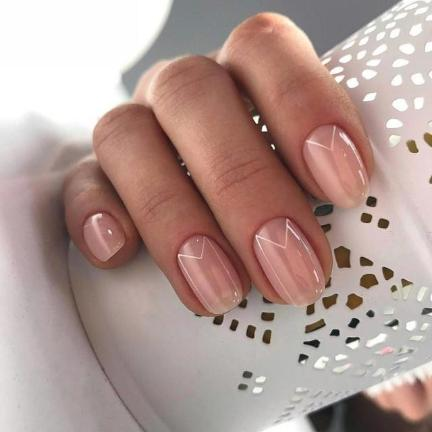Nail: (252, 217, 326, 307), (302, 124, 370, 209), (177, 234, 244, 314), (83, 211, 125, 262)
